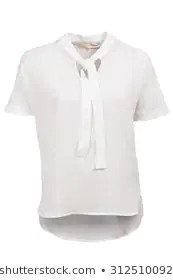S_short blouse: (6, 30, 162, 218)
